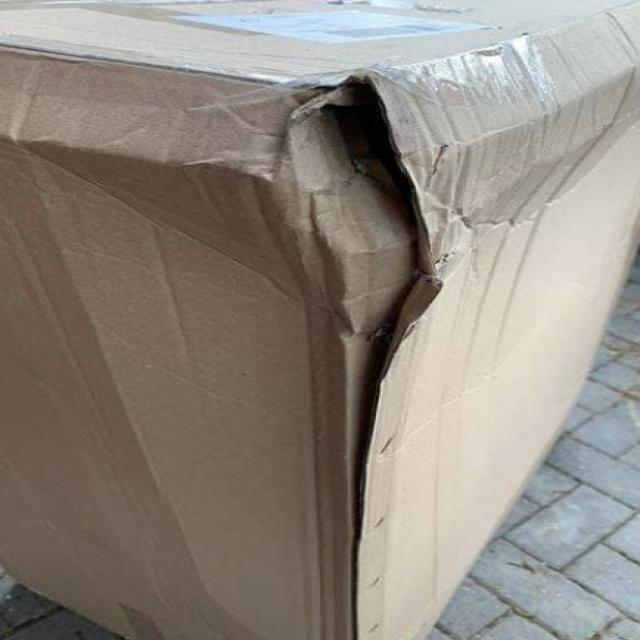hole: (285, 89, 463, 339)
